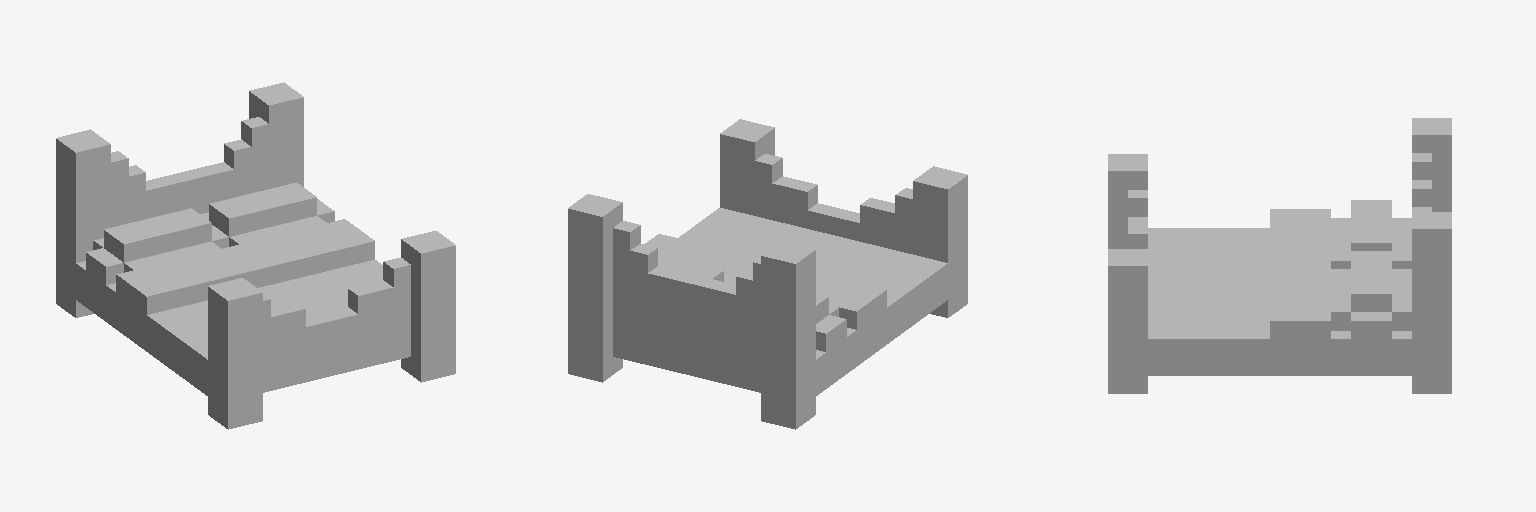
File: Bed_Queen_blue.obj
3 views of the same model, side by side, from view 1: azimuth 30°, elevation 25°; view 2: azimuth 150°, elevation 25°; view 3: azimuth 270°, elevation 25° (orthographic).
Parts seen in each view (by area): view 1: Bed_Queen; view 2: Bed_Queen; view 3: Bed_Queen.
Part boxes in pixels (x1,y1,x2,y2): Bed_Queen: (56, 82, 455, 429); Bed_Queen: (568, 119, 967, 429); Bed_Queen: (1108, 118, 1451, 393).
Size of the model in its own units: 13 by 9 by 17.